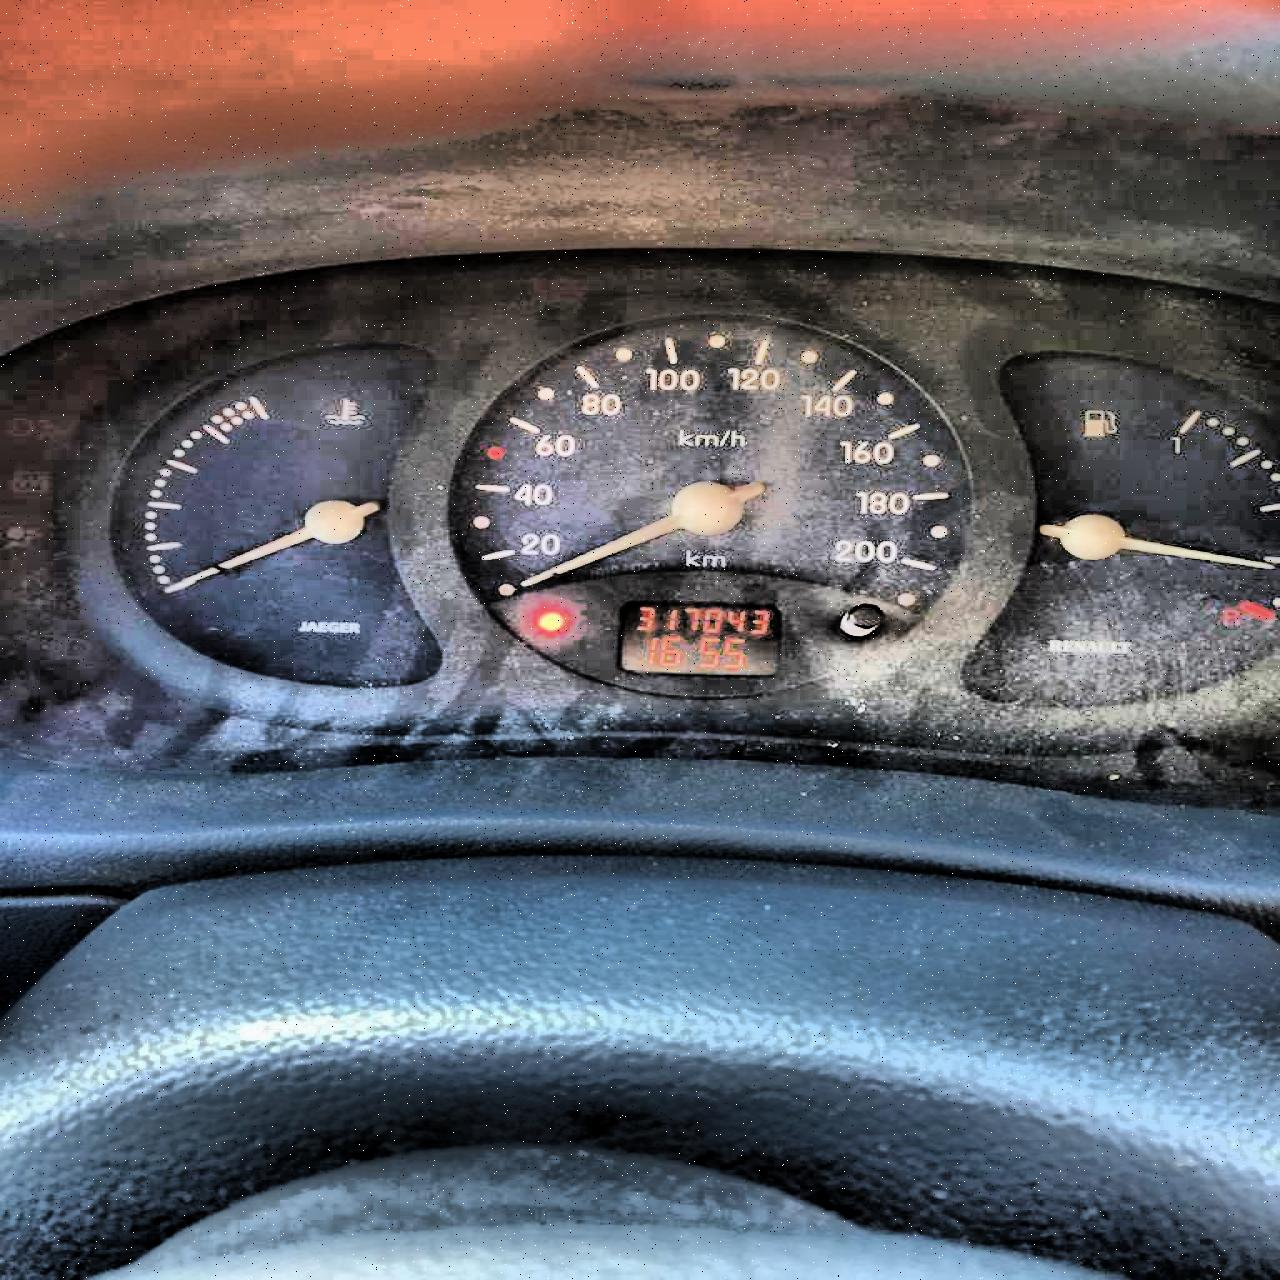0: (701, 606, 722, 633)
1: (644, 635, 659, 665), (665, 606, 680, 629)
3: (632, 604, 655, 629), (749, 607, 769, 633)
4: (723, 608, 744, 632)
5: (720, 635, 745, 669), (695, 635, 720, 669)
6: (659, 634, 682, 666)
7: (682, 606, 700, 632)
odometer: (604, 591, 791, 681)
